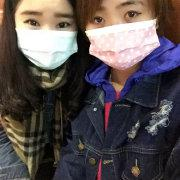OK: (87, 1, 159, 69), (18, 10, 78, 70)
